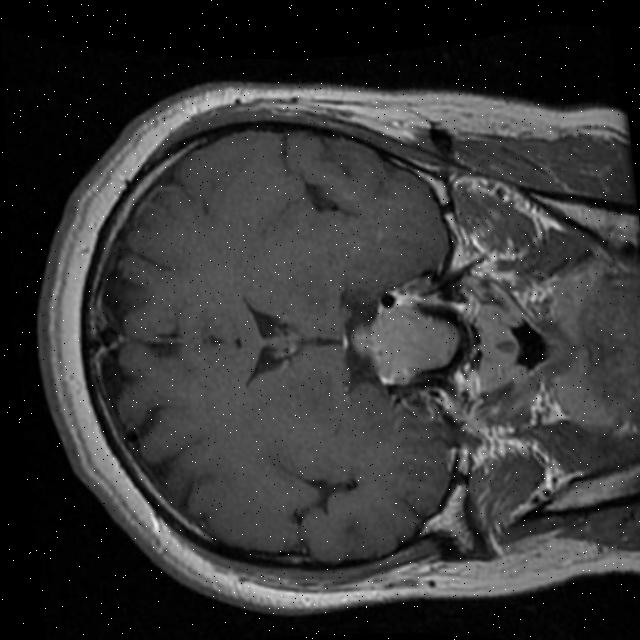Pituitary: (346, 301, 464, 389)
